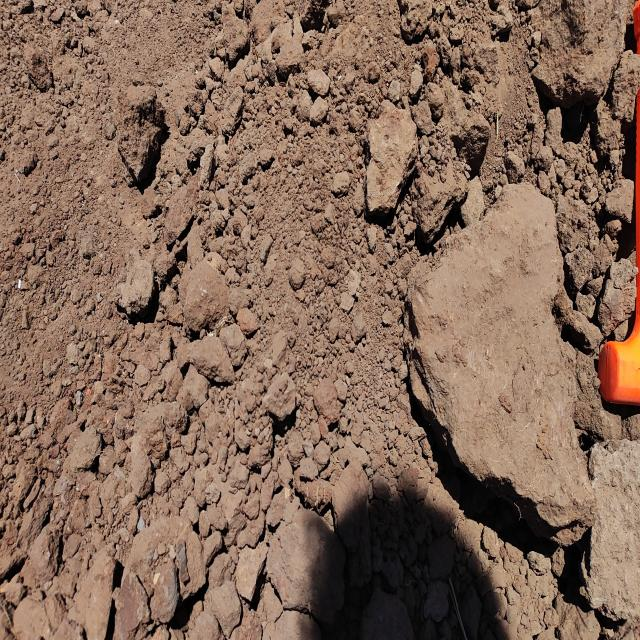Orange_hammer: (597, 0, 640, 406)
